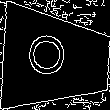O_E: (33, 36, 78, 83)
